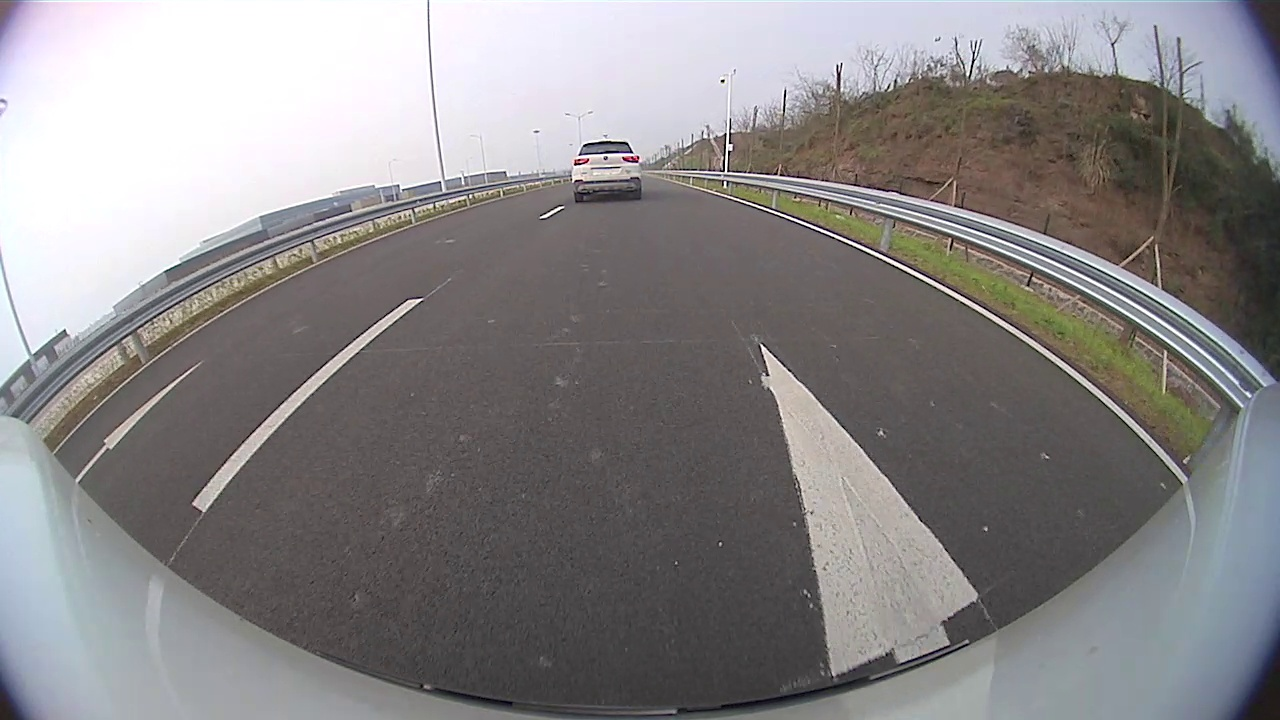car: (571, 139, 643, 203)
